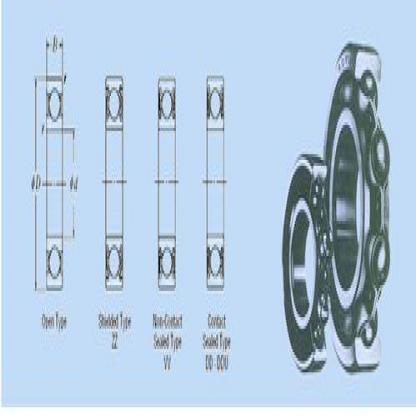FOD: (322, 33, 392, 377), (280, 144, 330, 377)
